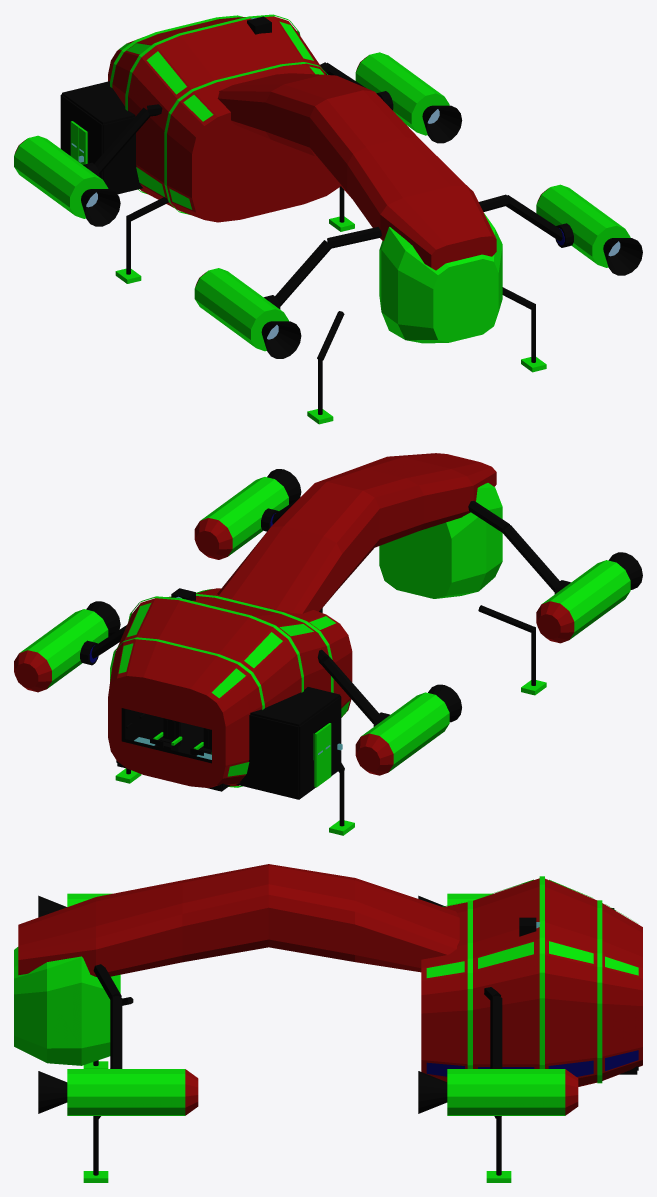
The model's file is porter.glb.
3 renders of one model, top to bottom at view 1: azimuth 30°, elevation 25°; view 2: azimuth 150°, elevation 25°; view 3: azimuth 270°, elevation 25°, orthographic. The views are drawn at different scales.
Parts seen in each view (by area): view 1: expedition_porter:pressure_hull_0, expedition_porter:arched_load_spine, expedition_porter:aft_service_bustle, expedition_porter:rocket_pod_-1_1, expedition_porter:rocket_pod_-1_0, expedition_porter:rocket_pod_1_1, expedition_porter:rocket_pod_1_0, expedition_porter:spine_pod_yokes, expedition_porter:room_eva, expedition_porter:service_panels_0, expedition_porter:habitat_seams_1, expedition_porter:ceiling_eva (+1 smaller); view 2: expedition_porter:pressure_hull_0, expedition_porter:arched_load_spine, expedition_porter:aft_service_bustle, expedition_porter:room_eva, expedition_porter:rocket_pod_-1_0, expedition_porter:rocket_pod_-1_1, expedition_porter:rocket_pod_1_0, expedition_porter:rocket_pod_1_1, expedition_porter:spine_pod_yokes, expedition_porter:service_panels_0, expedition_porter:room_bridge, expedition_porter:habitat_seams_1 (+5 smaller); view 3: expedition_porter:arched_load_spine, expedition_porter:pressure_hull_0, expedition_porter:aft_service_bustle, expedition_porter:rocket_pod_1_1, expedition_porter:rocket_pod_1_0, expedition_porter:service_panels_0, expedition_porter:habitat_seams_1, expedition_porter:spine_pod_yokes, expedition_porter:rocket_pod_-1_1, expedition_porter:gear_1, expedition_porter:gear_3, expedition_porter:rocket_pod_-1_0.
Part boxes in pixels (left/top/right/bottom): expedition_porter:pressure_hull_0: left=108, top=16, right=340, bottom=222; expedition_porter:arched_load_spine: left=217, top=73, right=496, bottom=270; expedition_porter:aft_service_bustle: left=379, top=213, right=502, bottom=343; expedition_porter:rocket_pod_-1_1: left=194, top=268, right=301, bottom=358; expedition_porter:rocket_pod_-1_0: left=14, top=135, right=120, bottom=226; expedition_porter:rocket_pod_1_1: left=536, top=184, right=642, bottom=275; expedition_porter:rocket_pod_1_0: left=355, top=52, right=462, bottom=143; expedition_porter:spine_pod_yokes: left=83, top=62, right=573, bottom=309; expedition_porter:room_eva: left=60, top=94, right=142, bottom=194; expedition_porter:service_panels_0: left=119, top=21, right=323, bottom=209; expedition_porter:habitat_seams_1: left=110, top=14, right=327, bottom=214; expedition_porter:ceiling_eva: left=62, top=81, right=135, bottom=124; expedition_porter:pressure_hull_0: left=108, top=588, right=352, bottom=787; expedition_porter:arched_load_spine: left=217, top=453, right=496, bottom=613; expedition_porter:aft_service_bustle: left=379, top=483, right=502, bottom=598; expedition_porter:room_eva: left=236, top=696, right=341, bottom=799; expedition_porter:rocket_pod_-1_0: left=355, top=684, right=461, bottom=775; expedition_porter:rocket_pod_-1_1: left=536, top=552, right=642, bottom=643; expedition_porter:rocket_pod_1_0: left=14, top=601, right=120, bottom=692; expedition_porter:rocket_pod_1_1: left=194, top=469, right=301, bottom=559; expedition_porter:spine_pod_yokes: left=80, top=498, right=570, bottom=726; expedition_porter:service_panels_0: left=118, top=589, right=349, bottom=776; expedition_porter:room_bridge: left=116, top=708, right=229, bottom=791; expedition_porter:habitat_seams_1: left=110, top=594, right=333, bottom=787; expedition_porter:arched_load_spine: left=18, top=864, right=459, bottom=976; expedition_porter:pressure_hull_0: left=421, top=878, right=642, bottom=1086; expedition_porter:aft_service_bustle: left=14, top=947, right=120, bottom=1065; expedition_porter:rocket_pod_1_1: left=38, top=1069, right=198, bottom=1115; expedition_porter:rocket_pod_1_0: left=418, top=1069, right=578, bottom=1115; expedition_porter:service_panels_0: left=426, top=879, right=638, bottom=1076; expedition_porter:habitat_seams_1: left=467, top=876, right=602, bottom=1083; expedition_porter:spine_pod_yokes: left=93, top=964, right=502, bottom=1068; expedition_porter:rocket_pod_-1_1: left=38, top=893, right=111, bottom=917; expedition_porter:gear_1: left=486, top=1116, right=511, bottom=1182; expedition_porter:gear_3: left=83, top=1116, right=108, bottom=1182; expedition_porter:rocket_pod_-1_0: left=418, top=893, right=493, bottom=906.
Size of the model in its own units: 16 by 9.57 by 21.85.
